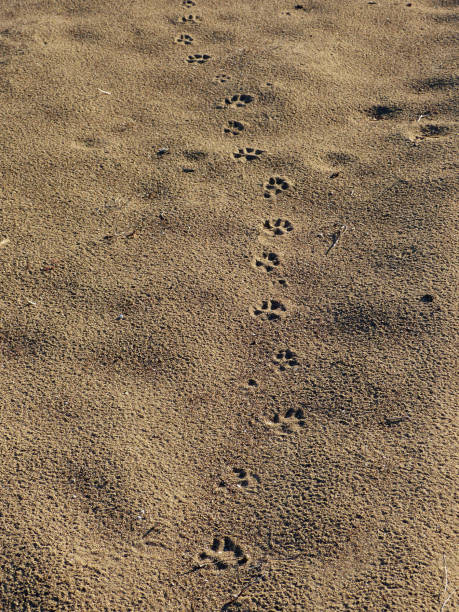animal_foot_print: (197, 536, 248, 569), (218, 467, 259, 491), (268, 408, 305, 432), (251, 299, 286, 320), (263, 176, 289, 198), (253, 251, 279, 272), (273, 349, 298, 370), (263, 218, 293, 235), (217, 94, 253, 108), (366, 105, 401, 119), (232, 147, 264, 160), (420, 124, 449, 137), (223, 120, 243, 135), (186, 54, 210, 63), (174, 33, 192, 44), (180, 14, 201, 23), (214, 73, 230, 82), (182, 0, 195, 7)
